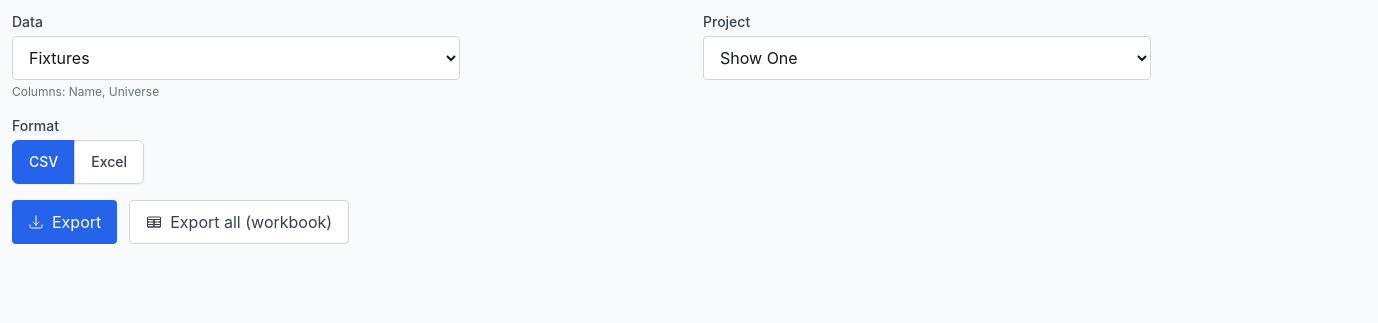
Test: DataExportPanel › shows an error when the export fails
Expected: the dropdown labelled "Data" is shown, [12, 36, 460, 80]
Click the button "Export": [65, 222] box [12, 200, 117, 244]
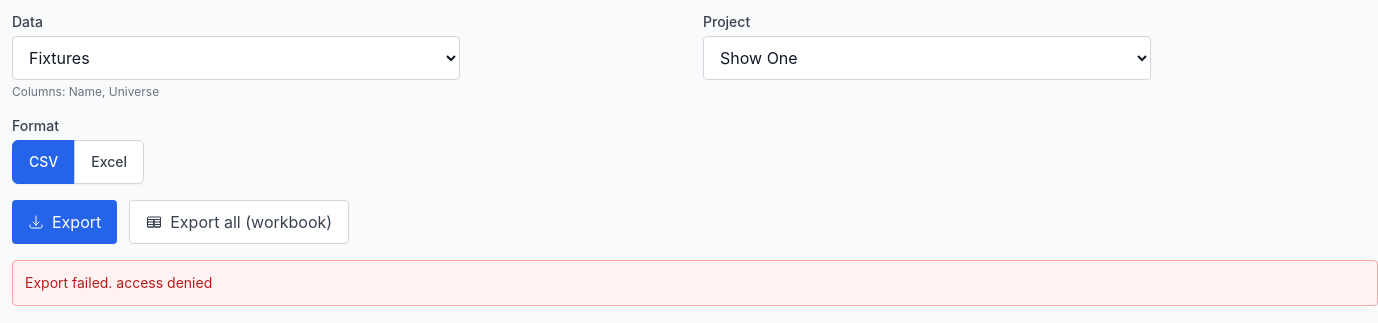
Now the message reads "Export failed. access denied", box [25, 274, 212, 291]
